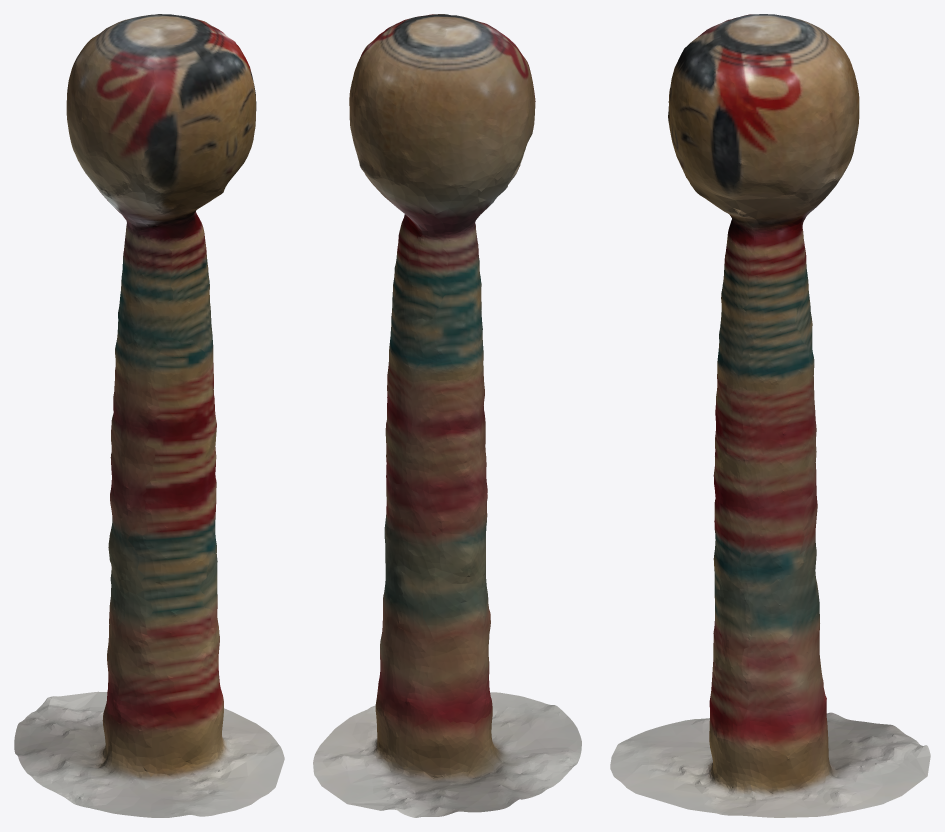
File: kokeshi007.glb
The picture shows the model from 3 angles, left to right: view 1: azimuth 30°, elevation 25°; view 2: azimuth 150°, elevation 25°; view 3: azimuth 270°, elevation 25°; orthographic projection. The views are drawn at different scales.
Visible parts, largest first — view 1: mesh; view 2: mesh; view 3: mesh.
Part boxes in pixels (<box>): mesh: <box>14,14,284,817</box>; mesh: <box>313,14,581,817</box>; mesh: <box>610,14,930,817</box>.
Size of the model in its own units: 0.0756 by 0.2406 by 0.0935.
Materials: 1 (1 with a texture image).
